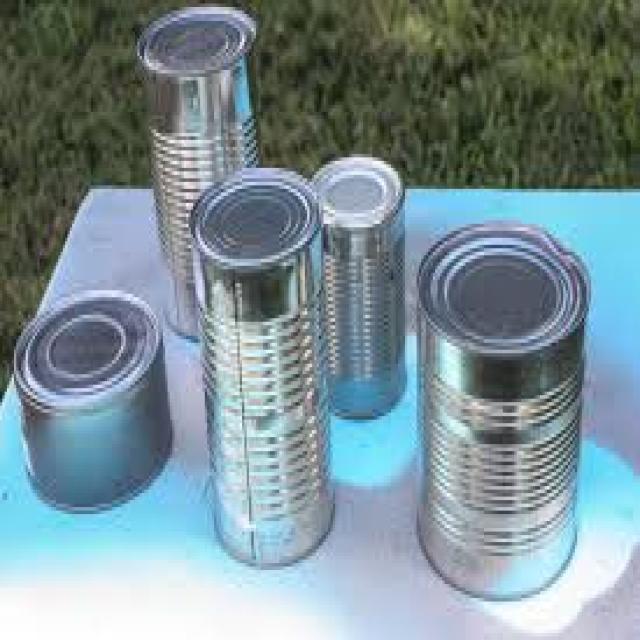metal: (414, 217, 589, 601), (184, 165, 335, 567), (133, 7, 258, 339), (12, 290, 175, 514), (309, 151, 405, 417)
